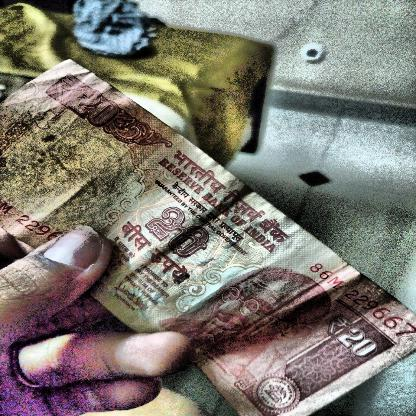Rs20: (137, 198, 226, 267), (317, 306, 393, 369)
